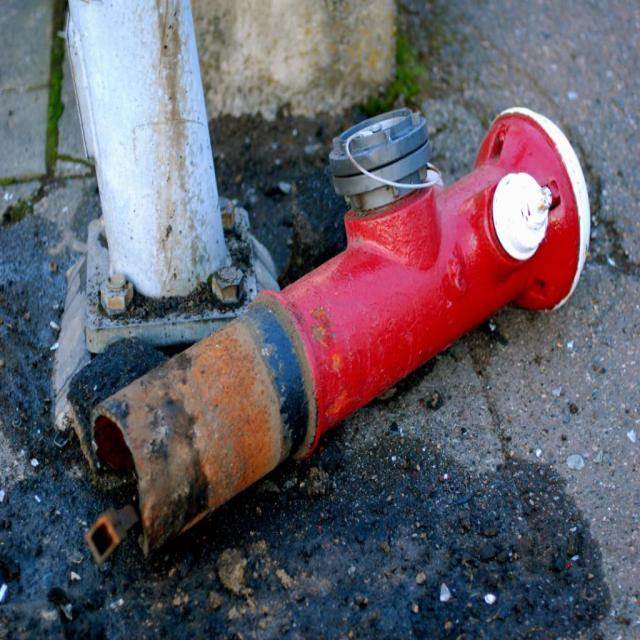fire_hydrant: (92, 104, 594, 566)
